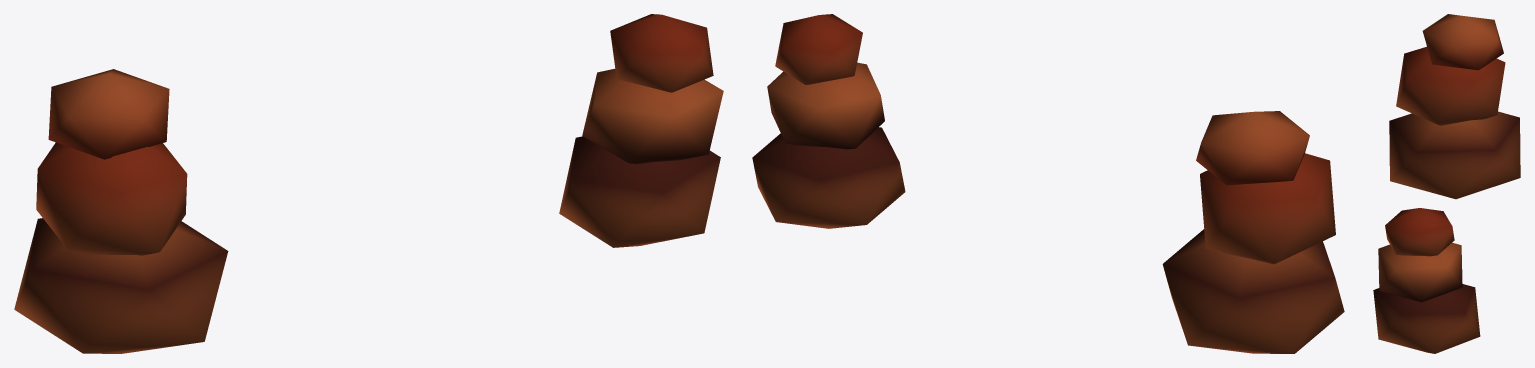
Rendered from MODULE_DESERT_FULL_ROCKS.fbx.
3 views of the same model, side by side, from view 1: azimuth 30°, elevation 25°; view 2: azimuth 150°, elevation 25°; view 3: azimuth 270°, elevation 25° (orthographic). The views are drawn at different scales.
Visible parts, largest first — view 1: MODULE_DESERT_FULL_ROCKS_DECOR__export; view 2: MODULE_DESERT_FULL_ROCKS_DECOR__export; view 3: MODULE_DESERT_FULL_ROCKS_DECOR__export.
Boxes of the visible parts, x1,y1,x2,y2 form: MODULE_DESERT_FULL_ROCKS_DECOR__export: [14, 14, 723, 353]; MODULE_DESERT_FULL_ROCKS_DECOR__export: [752, 14, 1344, 353]; MODULE_DESERT_FULL_ROCKS_DECOR__export: [1373, 14, 1520, 353].
Size of what is drawn, in the model's own units: 38.79 by 15.53 by 11.56.
